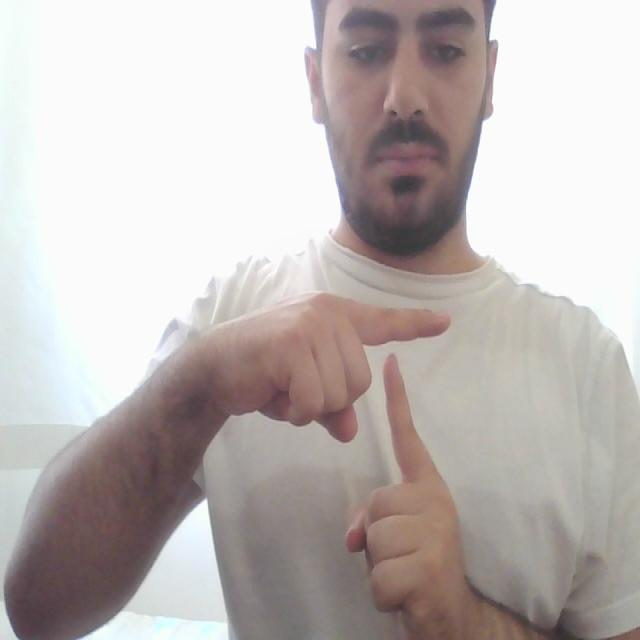Tesekkurler: (348, 297, 463, 507)
